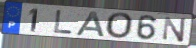1: (28, 8, 38, 33)
6: (136, 14, 159, 42)
A: (74, 11, 107, 39)
L: (52, 9, 74, 35)
N: (162, 16, 189, 44)
O: (105, 12, 135, 40)
